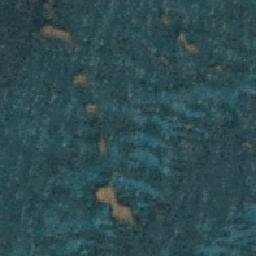debris: (92, 182, 140, 227), (40, 24, 75, 50), (172, 31, 200, 54), (96, 134, 108, 159), (72, 72, 87, 89), (84, 102, 98, 114)
